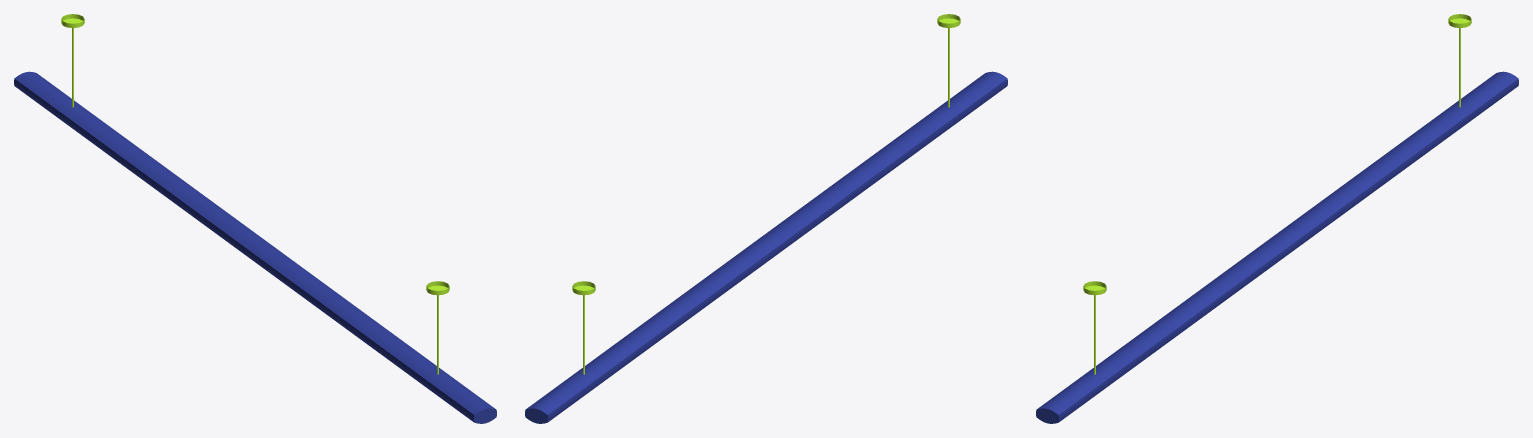
The model's file is light2.fbx.
The picture shows the model from 3 angles, left to right: view 1: azimuth 30°, elevation 25°; view 2: azimuth 150°, elevation 25°; view 3: azimuth 330°, elevation 25°; orthographic projection.
Parts seen in each view (by area): view 1: Box060; view 2: Box060; view 3: Box060.
Boxes of the visible parts, x1,y1,x2,y2 form: Box060: (14,14,496,423); Box060: (525,14,1007,423); Box060: (1036,14,1518,423).
Bounding box in the file's own units: 0.1315 × 0.5631 × 4.57.
